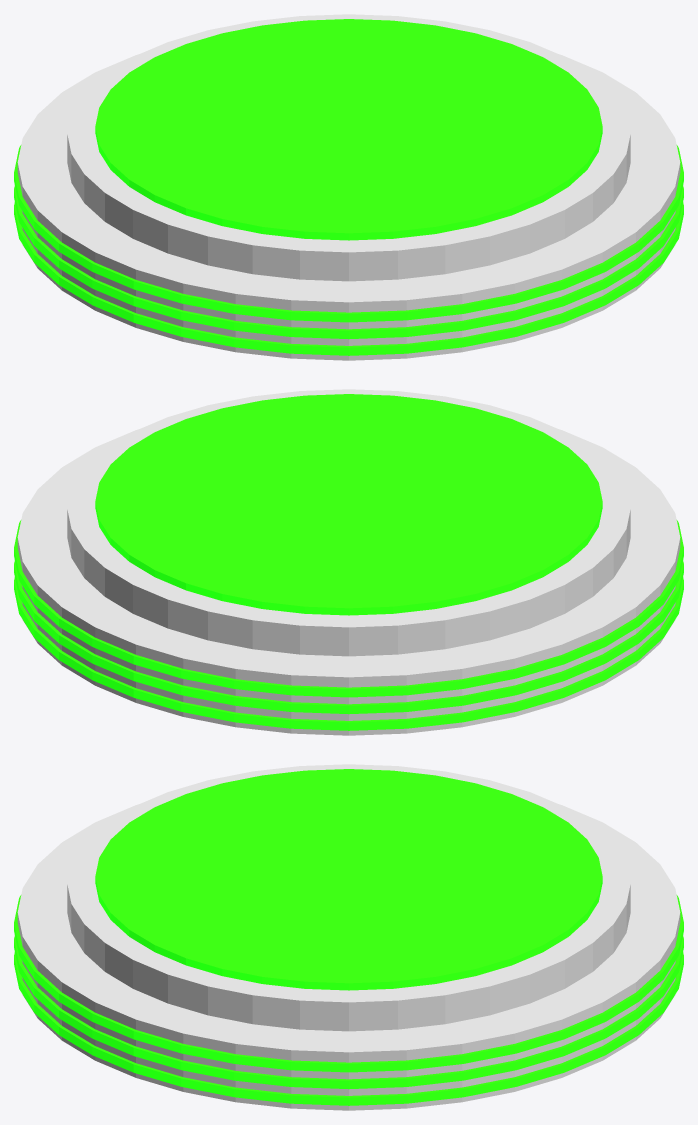
The model's file is Plaque de Pression actif.fbx.
3 views of the same model, one above another, from view 1: azimuth 30°, elevation 25°; view 2: azimuth 150°, elevation 25°; view 3: azimuth 270°, elevation 25° (orthographic).
Parts seen in each view (by area): view 1: Tube_2, Tube, Tube_1, Tube_3, Tube_4, Tube_5; view 2: Tube_2, Tube, Tube_1, Tube_3, Tube_4, Tube_5; view 3: Tube_2, Tube, Tube_1, Tube_3, Tube_4, Tube_5.
Boxes of the visible parts, x1=… form: Tube_2: x1=95, y1=19, x2=602, y2=240; Tube: x1=17, y1=54, x2=680, y2=360; Tube_1: x1=67, y1=14, x2=630, y2=281; Tube_3: x1=14, y1=145, x2=683, y2=322; Tube_4: x1=14, y1=185, x2=683, y2=339; Tube_5: x1=14, y1=202, x2=683, y2=355; Tube_2: x1=95, y1=394, x2=602, y2=615; Tube: x1=17, y1=429, x2=680, y2=735; Tube_1: x1=67, y1=389, x2=630, y2=656; Tube_3: x1=14, y1=520, x2=683, y2=697; Tube_4: x1=14, y1=560, x2=683, y2=714; Tube_5: x1=14, y1=577, x2=683, y2=730; Tube_2: x1=95, y1=769, x2=602, y2=990; Tube: x1=17, y1=804, x2=680, y2=1110; Tube_1: x1=67, y1=764, x2=630, y2=1031; Tube_3: x1=14, y1=895, x2=683, y2=1072; Tube_4: x1=14, y1=935, x2=683, y2=1089; Tube_5: x1=14, y1=952, x2=683, y2=1105.
Size of the model in its own units: 364 by 56.7 by 364.
